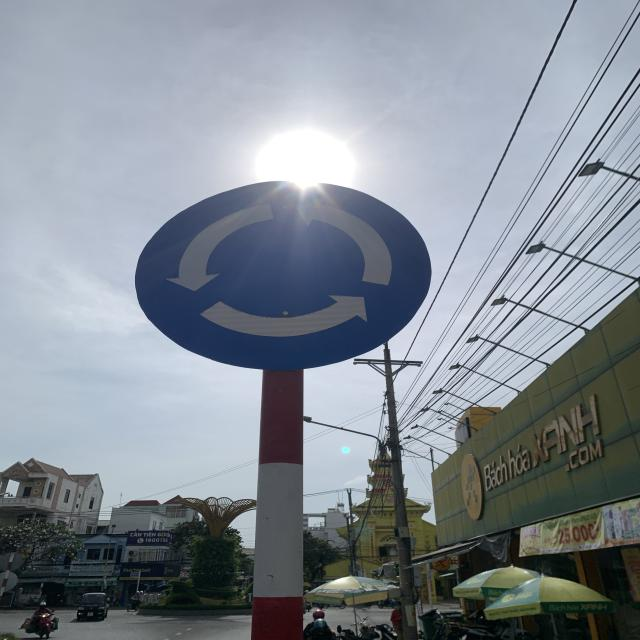Xe_Bus: (131, 178, 433, 372)
